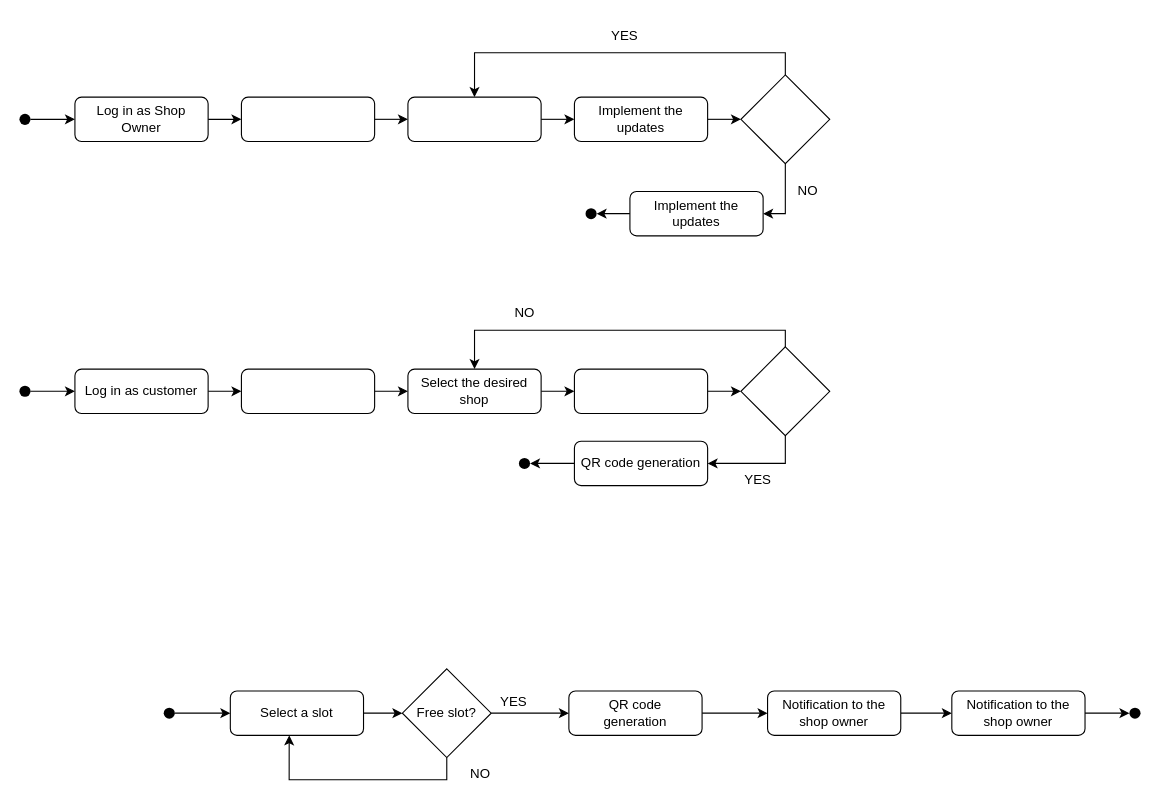
Some shapes in this 1159 by 809 pixel diagram are drawn without their labels. The shapes that lost their labels are listed below. From the top down, each one's centre as x and y in pixels, then its label:
(x=307, y=119): Navigate to "My shop section"
(x=474, y=119): Select the desired operation
(x=785, y=119): Other adjustments?
(x=307, y=390): Navigate to "Search the shop"
(x=640, y=390): Book a ticket
(x=785, y=391): Operation successful?
